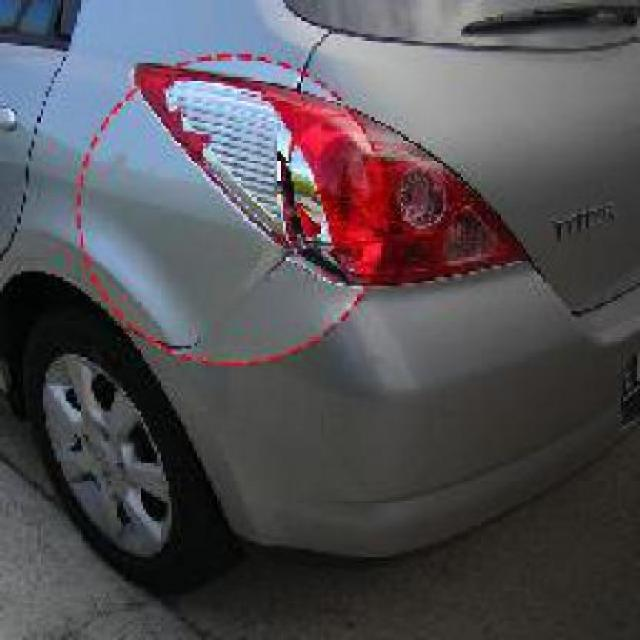damaged-tail-light: (124, 52, 538, 285)
